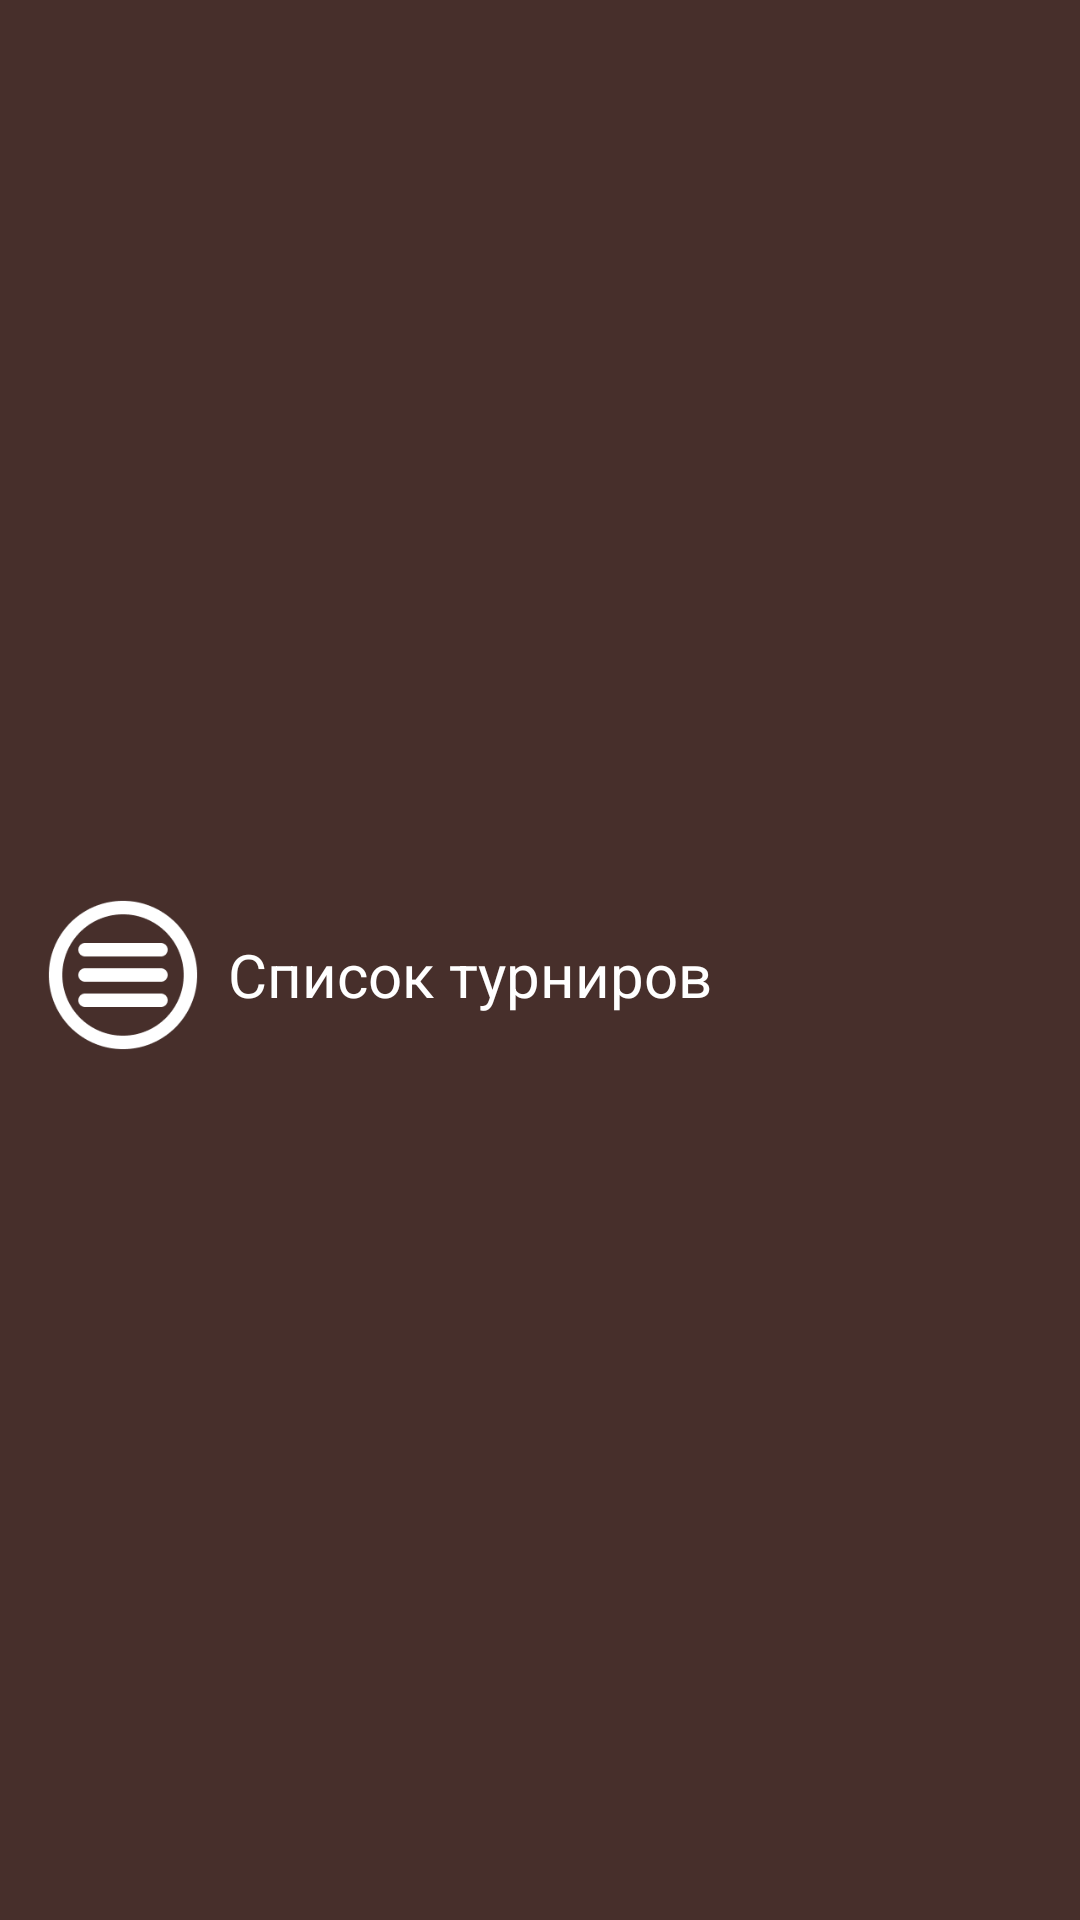

Screen size 1080w x 1920h. Icon name, then its box in pixels as {"left": x1, "top": y1, "right": x2, "bottom": y2}:
menu: {"left": 49, "top": 901, "right": 197, "bottom": 1049}
